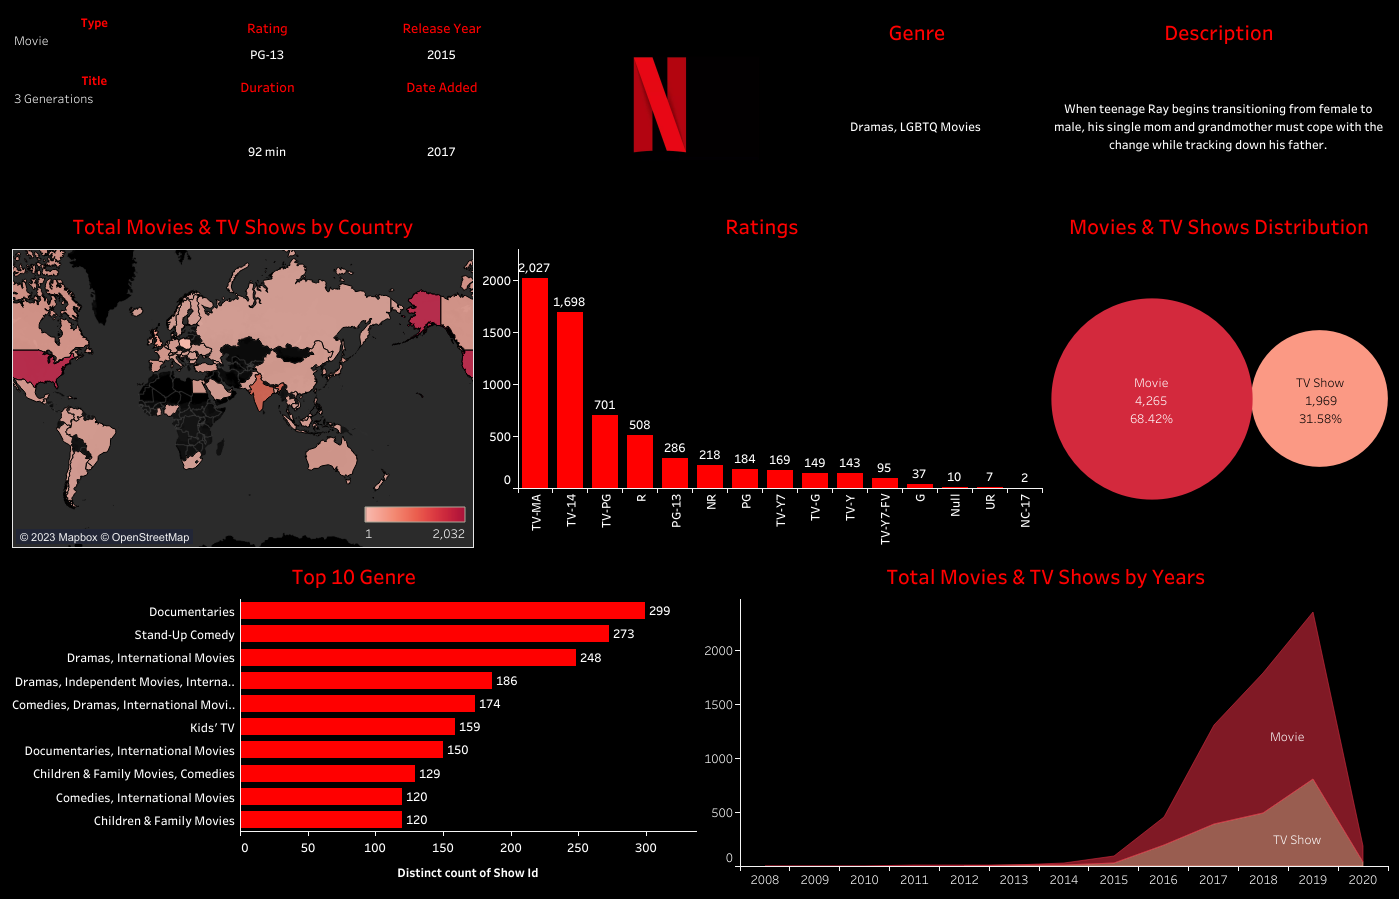

The page's visual inventory and layout, read from the dashboard file:
{"tool":"tableau","page":{"name":"Netflix","canvas":[1000,1000],"units":"permille","ordinal":0},"visuals":[{"type":"filter","title":"Description","param":"[federated.1f788e10tbjelm14qk7v70pc7n1d].[none:type:nk]","box":[5.7,8.9,123.6,65]},{"type":"worksheet","title":"Rating","mark":"Automatic","box":[129.3,8.9,123.6,65.5]},{"type":"worksheet","title":"Release Year","mark":"Automatic","box":[252.8,8.9,125.7,65.5]},{"type":"image","param":"Image/netflix_logo_1.jpg","box":[378.6,8.9,184.3,215.6]},{"type":"worksheet","title":"Genre","mark":"Automatic","box":[562.9,8.9,184.3,215.6]},{"type":"worksheet","title":"Description","mark":"Automatic","box":[747.1,8.9,247.2,215.6]},{"type":"filter","title":"Description","param":"[federated.1f788e10tbjelm14qk7v70pc7n1d].[none:title:nk]","box":[5.7,73.9,123.6,150.6]},{"type":"worksheet","title":"Duration","mark":"Automatic","box":[129.3,74.4,123.6,150]},{"type":"worksheet","title":"Date Added","mark":"Automatic","box":[252.8,74.4,125.7,150]},{"type":"worksheet","title":"Total Movies & TV Shows by Country","mark":"Multipolygon","box":[5.7,224.4,335.7,388.4]},{"type":"worksheet","title":"Ratings","mark":"Automatic","rows":["show_id"],"cols":["rating"],"box":[341.4,224.4,405.7,388.4]},{"type":"worksheet","title":"Movies & TV Shows Distribution","mark":"Circle","box":[747.1,224.4,247.2,388.4]},{"type":"legend","title":"Total Movies & TV Shows by Country","param":"[federated.1f788e10tbjelm14qk7v70pc7n1d].[ctd:show_id:qk]","box":[257.9,558.9,77.9,43.3]},{"type":"worksheet","title":"Top 10 Genre","mark":"Automatic","rows":["listed_in"],"cols":["show_id"],"box":[5.7,612.9,494.2,378.2]},{"type":"worksheet","title":"Total Movies & TV Shows by Years","mark":"Area","rows":["show_id"],"cols":["date_added"],"box":[500,612.9,494.3,378.2]}]}

Visuals, with their boxes on the dashboard's canvas, which has no fixed pixel size, in thousandths of its width and height (x1, y1, x2, y2). These are canvas units, not pixel positions in the 1399x899 screenshot, which may show the page scaled, cropped or inside an application window:
"Description" filter: <bbox>6, 9, 129, 74</bbox>
"Rating" worksheet: <bbox>129, 9, 253, 74</bbox>
"Release Year" worksheet: <bbox>253, 9, 378, 74</bbox>
image: <bbox>379, 9, 563, 224</bbox>
"Genre" worksheet: <bbox>563, 9, 747, 224</bbox>
"Description" worksheet: <bbox>747, 9, 994, 224</bbox>
"Description" filter: <bbox>6, 74, 129, 224</bbox>
"Duration" worksheet: <bbox>129, 74, 253, 224</bbox>
"Date Added" worksheet: <bbox>253, 74, 378, 224</bbox>
"Total Movies & TV Shows by Country" worksheet (Multipolygon marks): <bbox>6, 224, 341, 613</bbox>
"Ratings" worksheet: <bbox>341, 224, 747, 613</bbox>
"Movies & TV Shows Distribution" worksheet (Circle marks): <bbox>747, 224, 994, 613</bbox>
"Total Movies & TV Shows by Country" legend: <bbox>258, 559, 336, 602</bbox>
"Top 10 Genre" worksheet: <bbox>6, 613, 500, 991</bbox>
"Total Movies & TV Shows by Years" worksheet (Area marks): <bbox>500, 613, 994, 991</bbox>
